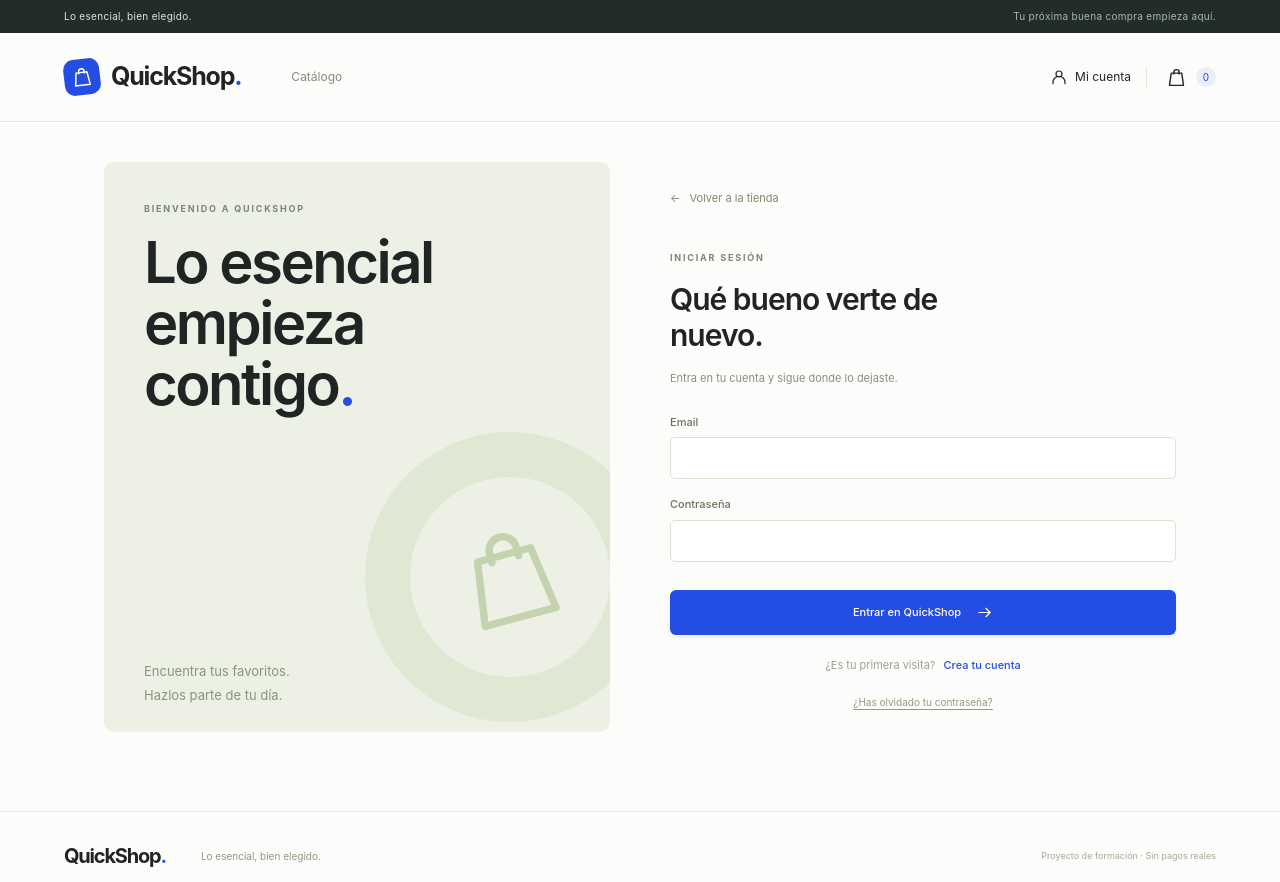
QuickShop › inicia sesión, abre el carrito y no persiste el token en localStorage
The width and height of the screenshot is (1280, 882).
Step 1. Type "one@example.com" into the field labelled "Email" → (923, 458), box [670,437,1176,479]
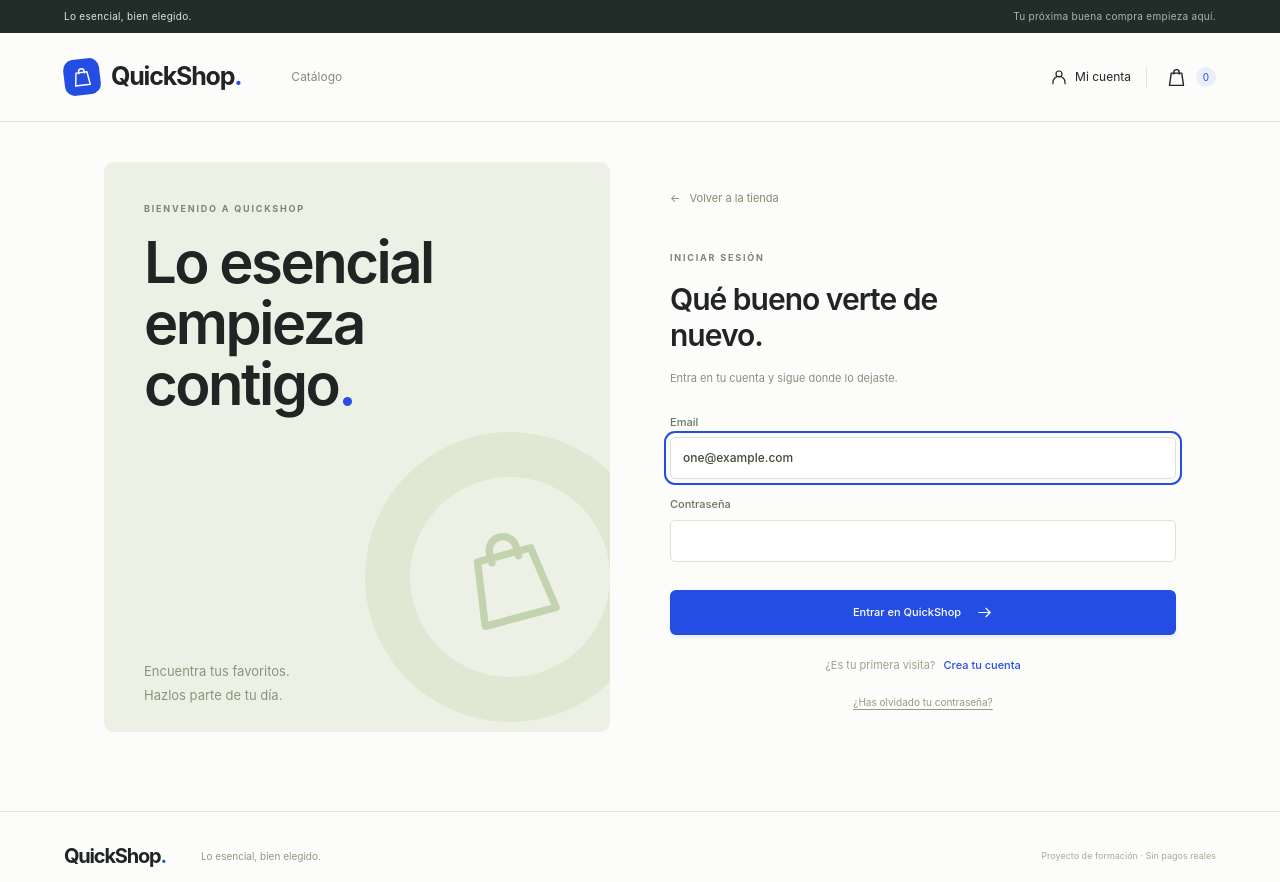
Step 2. Type "Client-test123!" into the password field labelled "Contraseña" → (923, 541), box [670,520,1176,562]
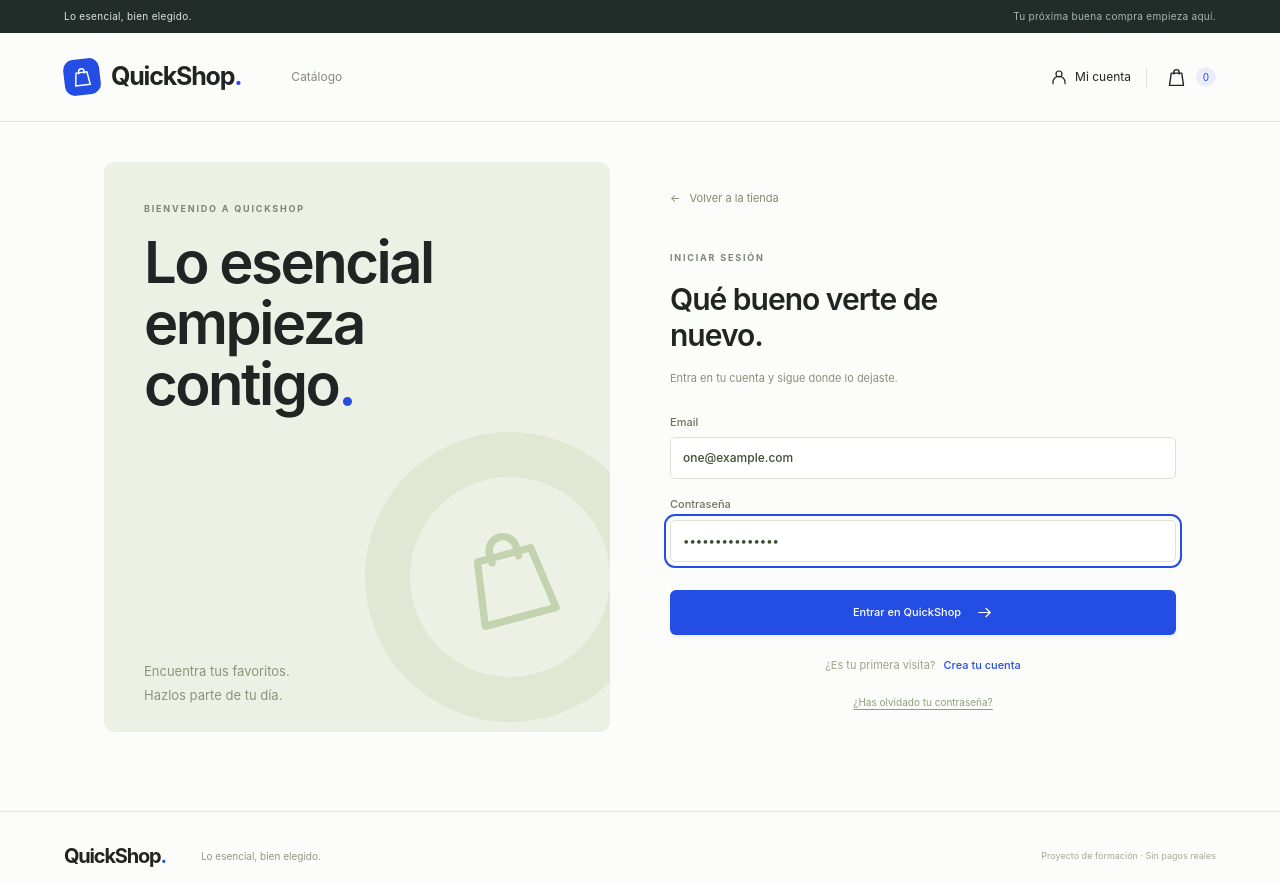
Step 3. Click the button "Entrar en QuickShop" → click(923, 612), box [670,590,1176,635]
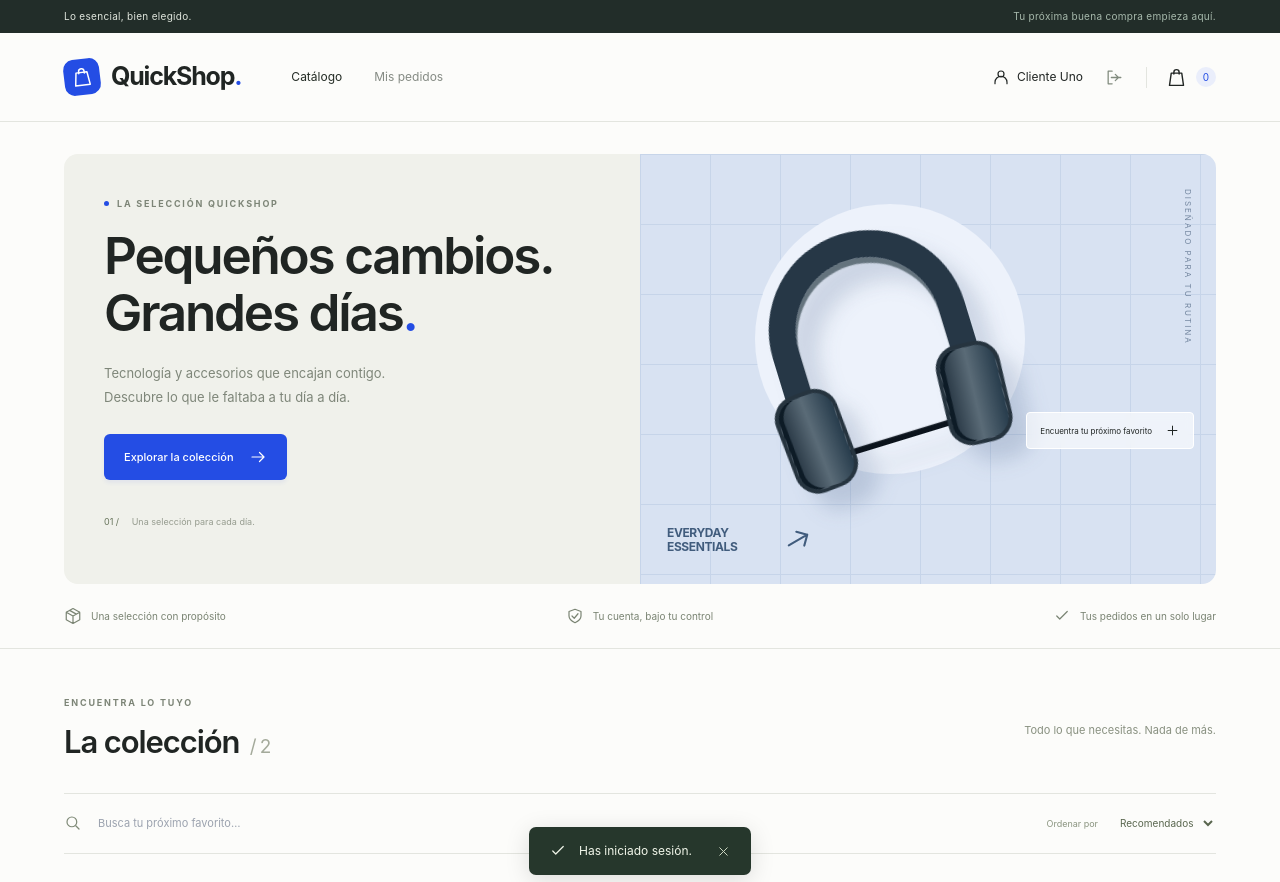
Now the link "Cliente Uno" is shown, box [992,68,1083,86]
Step 4. Click the link named "Carrito, 0 artículos" → click(1181, 77), box [1146,66,1216,88]
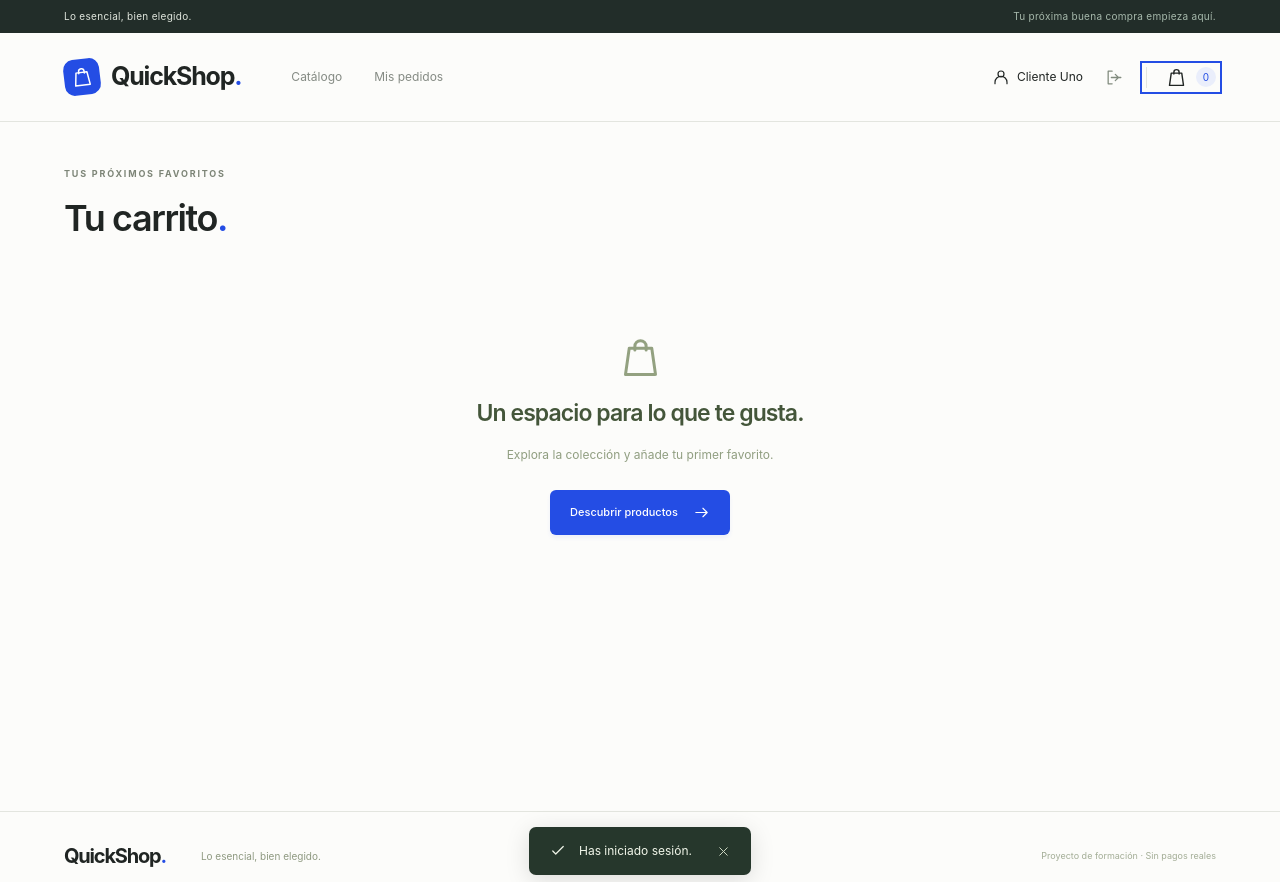
Now the heading "Tu carrito." is shown, box [64,196,227,240]
Step 5. Click the button named "Cerrar sesión" → click(1114, 77), box [1098,60,1131,94]
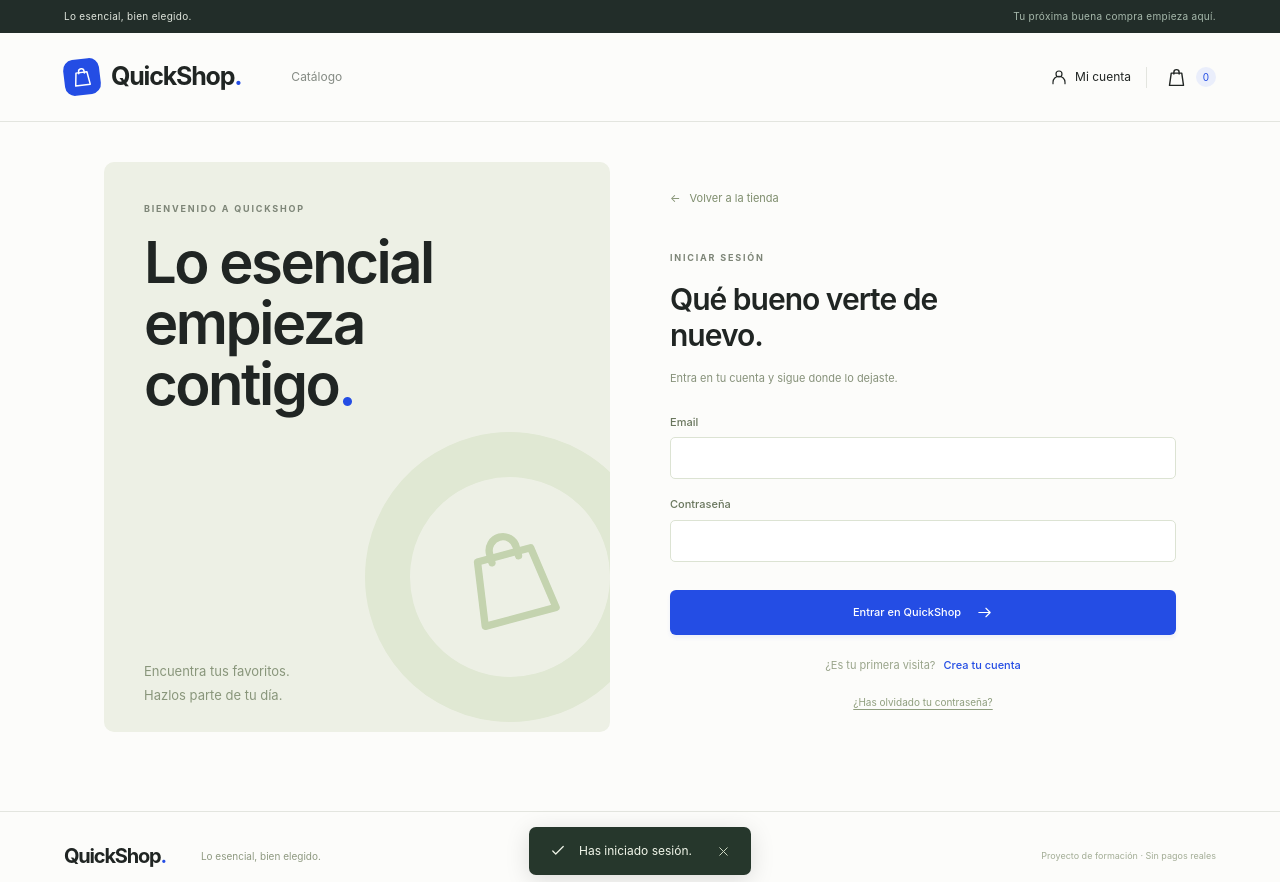
Now the heading "Qué bueno verte de nuevo." is shown, box [670,281,970,353]
